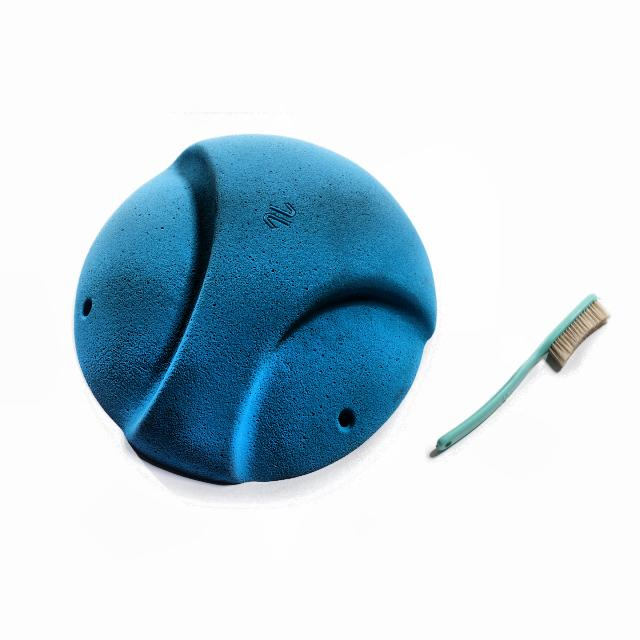Hold: (67, 136, 436, 477)
